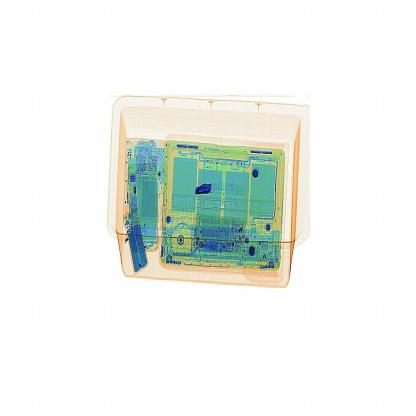knife: (193, 175, 216, 197)
